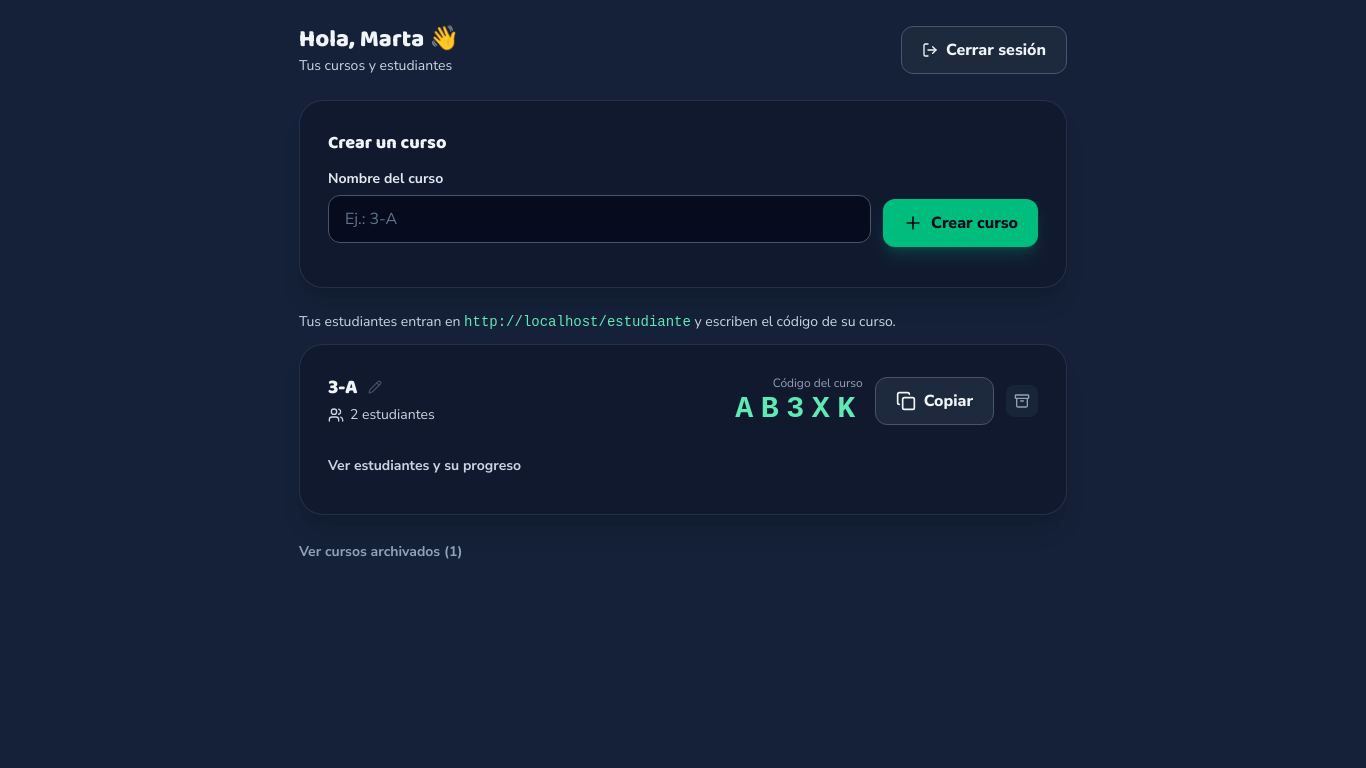
TeacherPanel · detalle del estudiante › muestra cuántas preguntas acertó de cuántas: total, por región, por nivel y por dificultad
The width and height of the screenshot is (1366, 768).
Expected: the text "Tus cursos y estudiantes" is shown, x1=299 y1=56 x2=459 y2=76
Click the heading "Ver estudiantes y su progreso" at {"x": 425, "y": 465}, box x1=328 y1=456 x2=521 y2=475
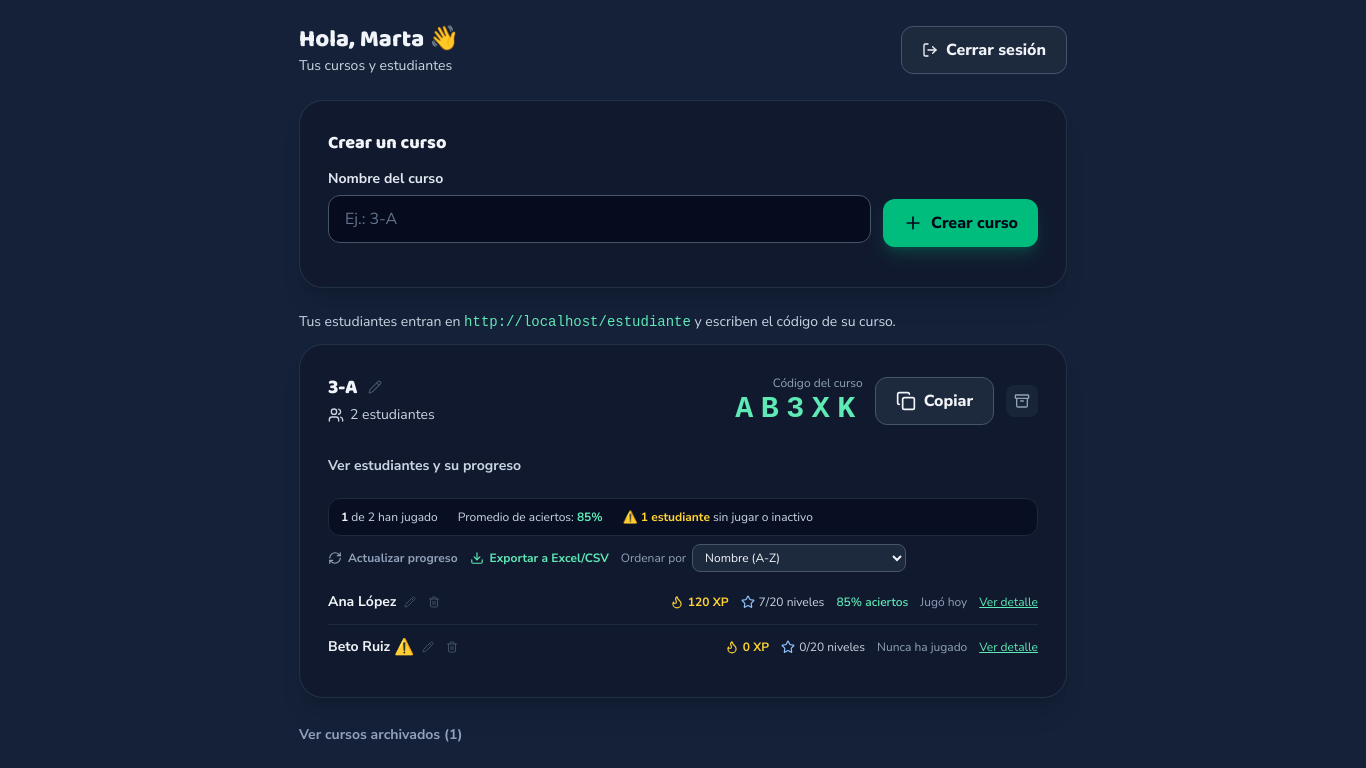
Click the text "120 XP" at {"x": 699, "y": 602}, box x1=670 y1=594 x2=729 y2=610
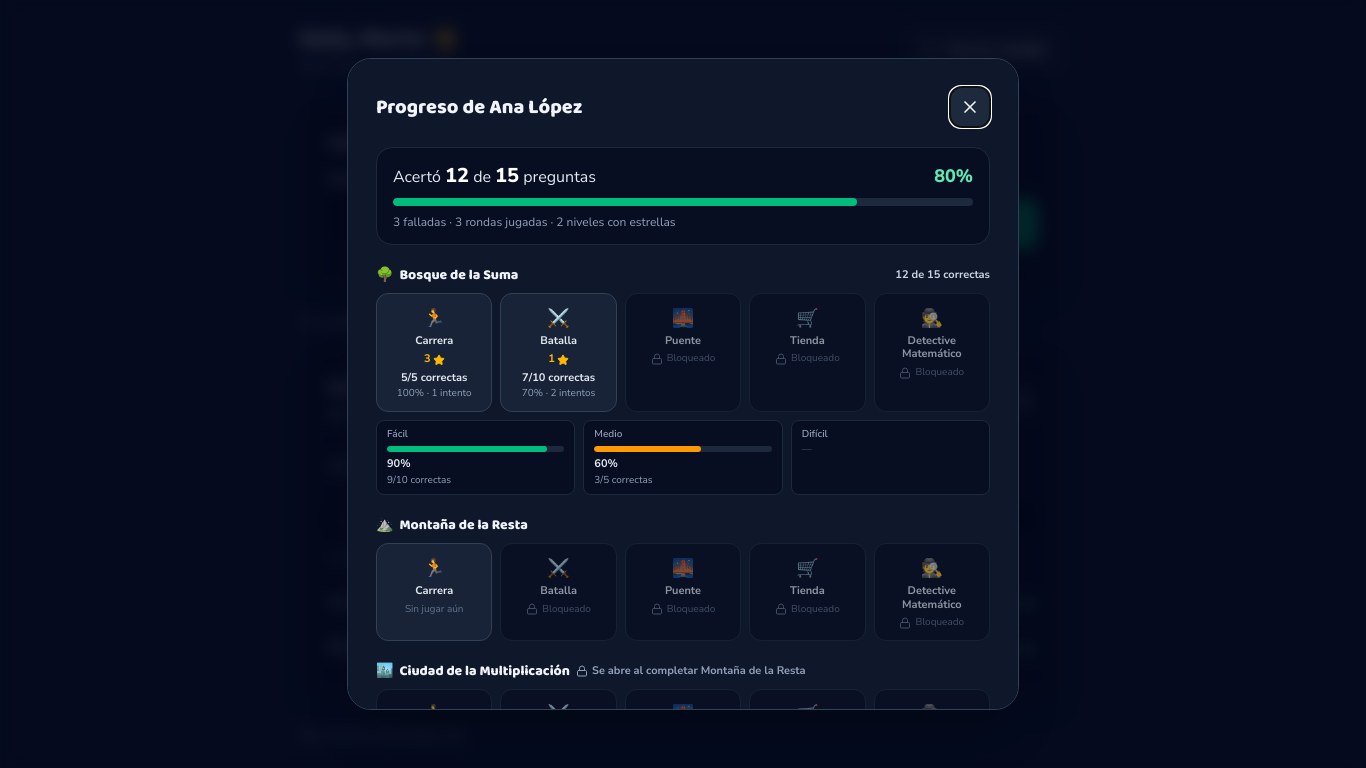
Now the element named "Resumen de respuestas" shows "Acertó 12 de 15 preguntas", box x1=376 y1=147 x2=990 y2=245
Now the element named "Resumen de respuestas" shows "80%", box x1=376 y1=147 x2=990 y2=245
Now the element named "Resumen de respuestas" shows "3 falladas", box x1=393 y1=214 x2=446 y2=230
